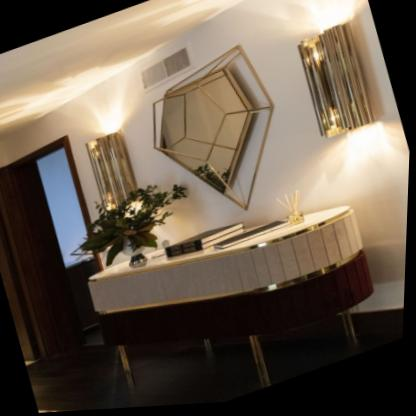Sideboard: (90, 209, 378, 392)
